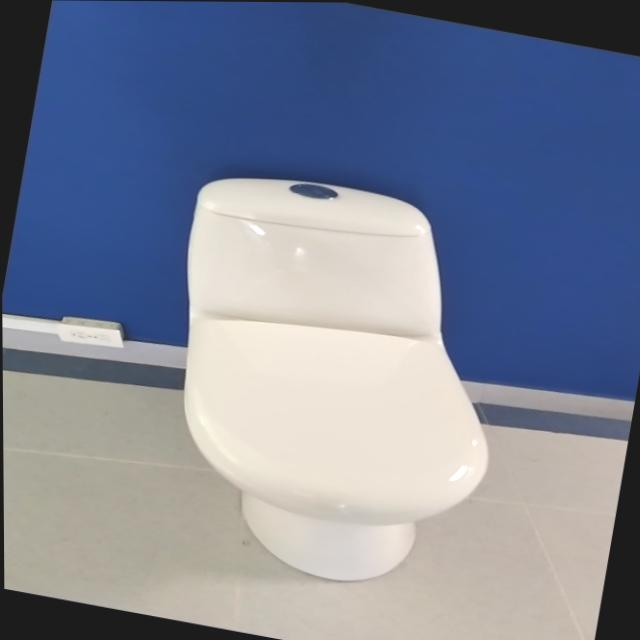toilet: (132, 158, 533, 604)
